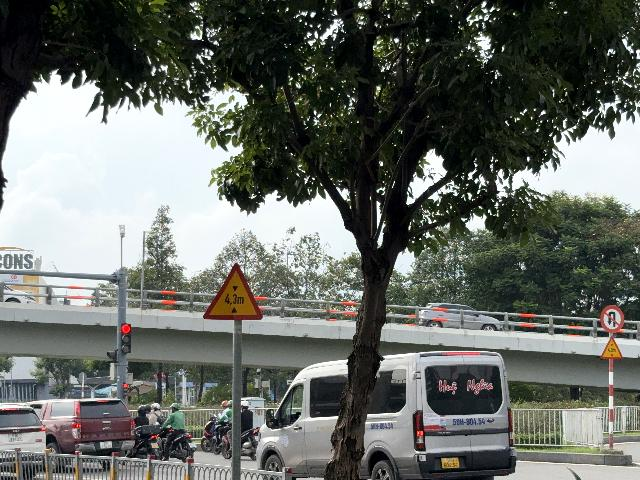chieu-cao-tinh-khong-thuc-te: (203, 263, 263, 320)
